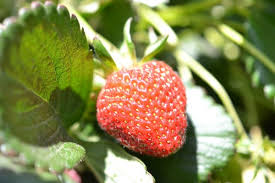ripe: (93, 55, 189, 158)
